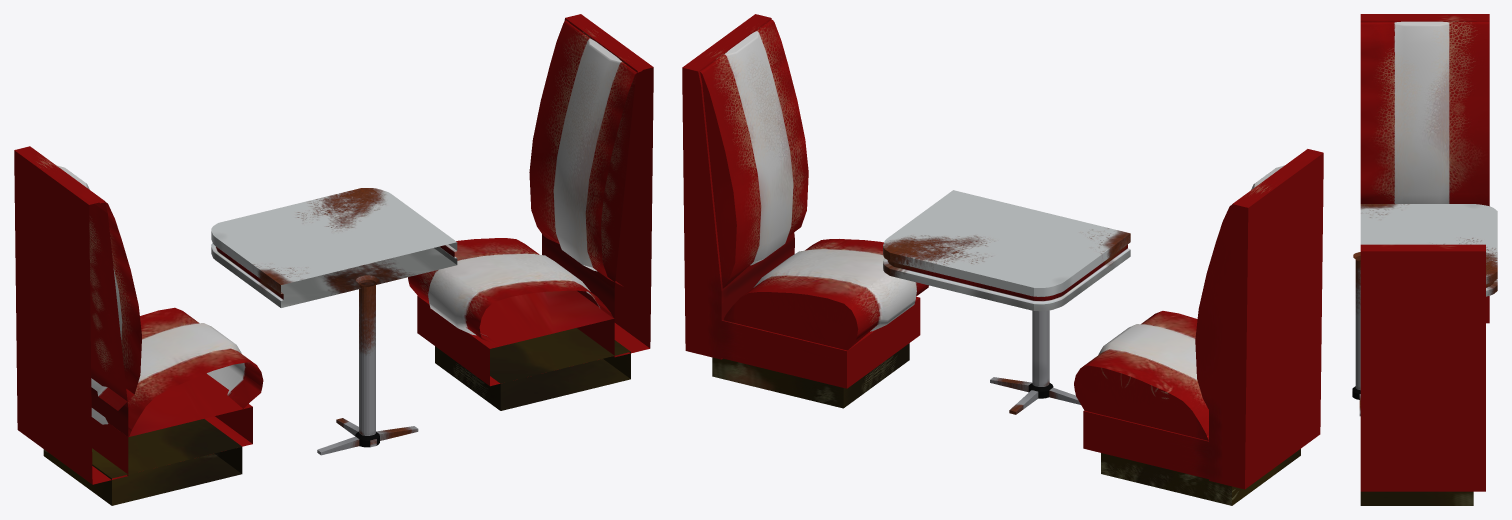
Rendered from diner_seats.glb.
3 views of the same model, side by side, from view 1: azimuth 30°, elevation 25°; view 2: azimuth 150°, elevation 25°; view 3: azimuth 270°, elevation 25° (orthographic). The views are drawn at different scales.
Visible parts, largest first — view 1: pCube17; view 2: pCube17; view 3: pCube17.
Boxes of the visible parts, box(x1,y1,x2,y2) form: pCube17: box(14, 14, 653, 505); pCube17: box(682, 14, 1323, 505); pCube17: box(1352, 14, 1497, 505).
Bounding box in the file's own units: 2 × 1.04 × 0.5163.
Materials: 3 (3 with a texture image).
